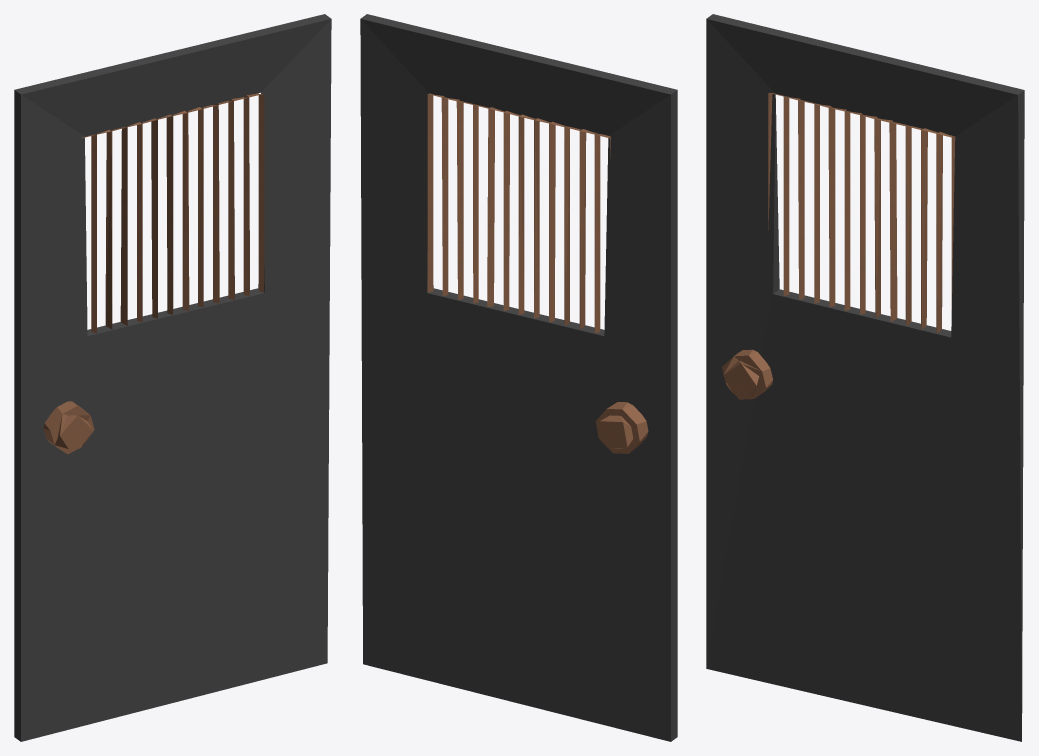
File: door-factory-r.glb
The picture shows the model from 3 angles, left to right: view 1: azimuth 30°, elevation 25°; view 2: azimuth 150°, elevation 25°; view 3: azimuth 330°, elevation 25°; orthographic projection.
Visible parts, largest first — view 1: Cube.041, Cube.039, Cylinder.063; view 2: Cube.041, Cube.039, Cylinder.063; view 3: Cube.041, Cube.039, Cylinder.063.
Part boxes in pixels (<box>): Cube.041: <box>14,14,331,741</box>; Cube.039: <box>82,93,264,333</box>; Cylinder.063: <box>43,401,94,454</box>; Cube.041: <box>360,14,677,741</box>; Cube.039: <box>427,94,610,333</box>; Cylinder.063: <box>595,402,648,453</box>; Cube.041: <box>706,14,1024,741</box>; Cube.039: <box>768,93,955,333</box>; Cylinder.063: <box>722,349,772,399</box>.
Bounding box in the file's own units: 1.13 × 2.25 × 0.1915.
2 materials, 1 textured.
